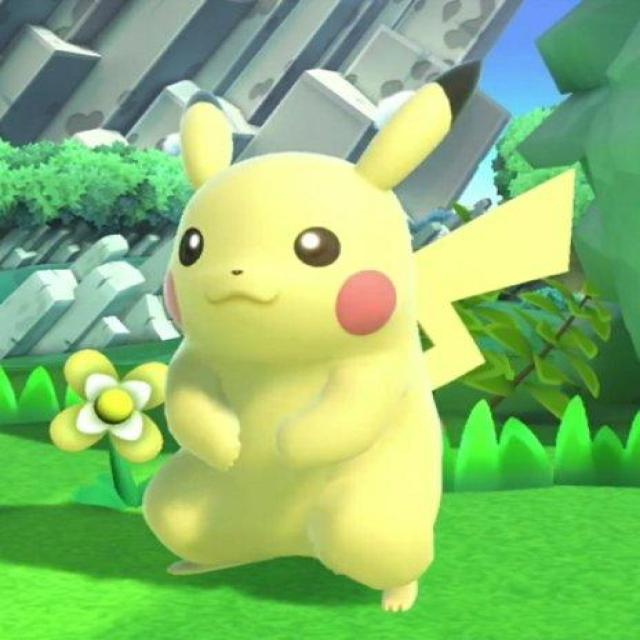pikachu: (140, 85, 578, 612)
